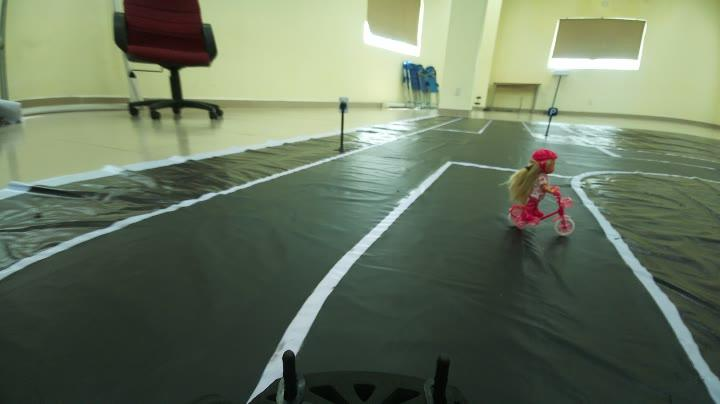pedestrian: (510, 148, 586, 236)
